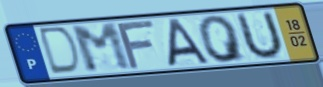A: (167, 17, 211, 69)
D: (38, 25, 83, 77)
F: (115, 18, 158, 72)
M: (68, 21, 136, 75)
Q: (196, 14, 249, 65)
U: (235, 10, 286, 63)
